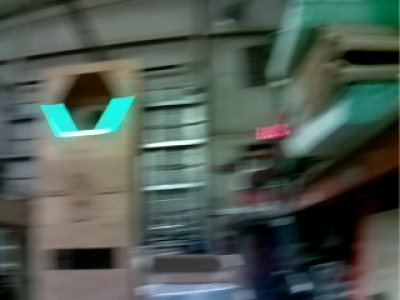target: (41, 95, 135, 138)
